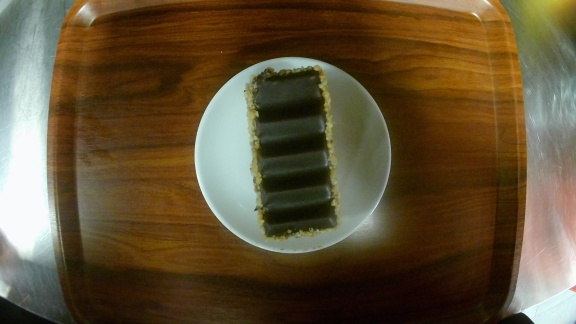muzlupasta: (194, 57, 393, 253)
